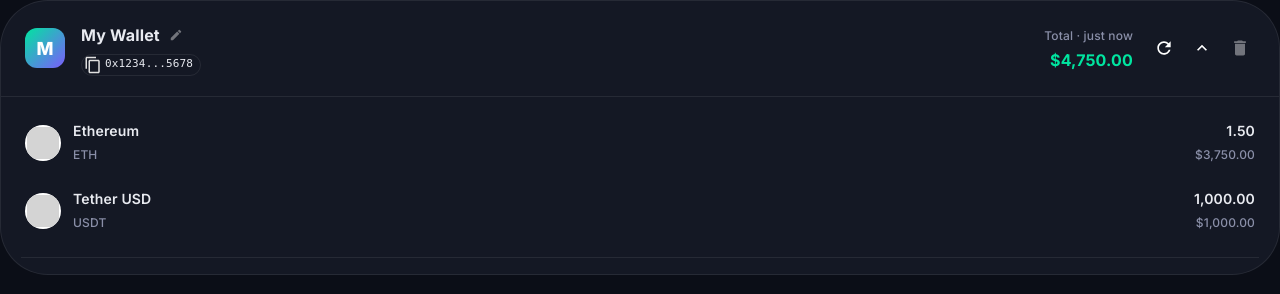
Test: WalletCard › enters edit mode on edit button click
Click the button named "edit label" at {"x": 176, "y": 35}, box [164,23,188,47]
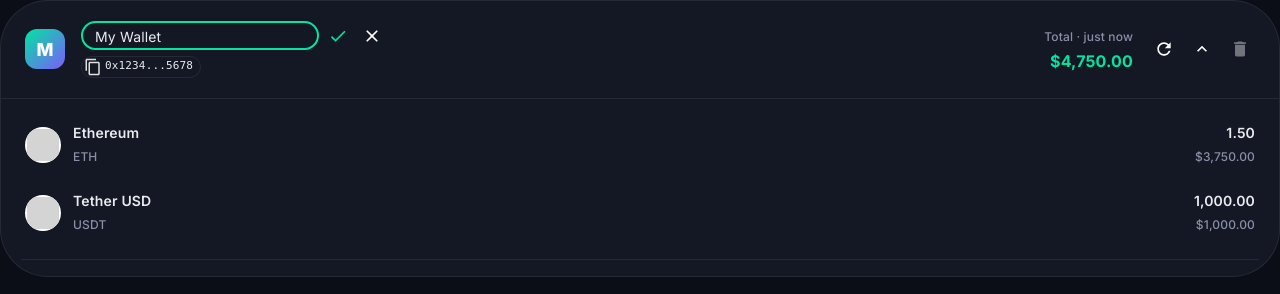
Check: the field with placeholder "Wallet label" is shown, box [81,22,319,50]
